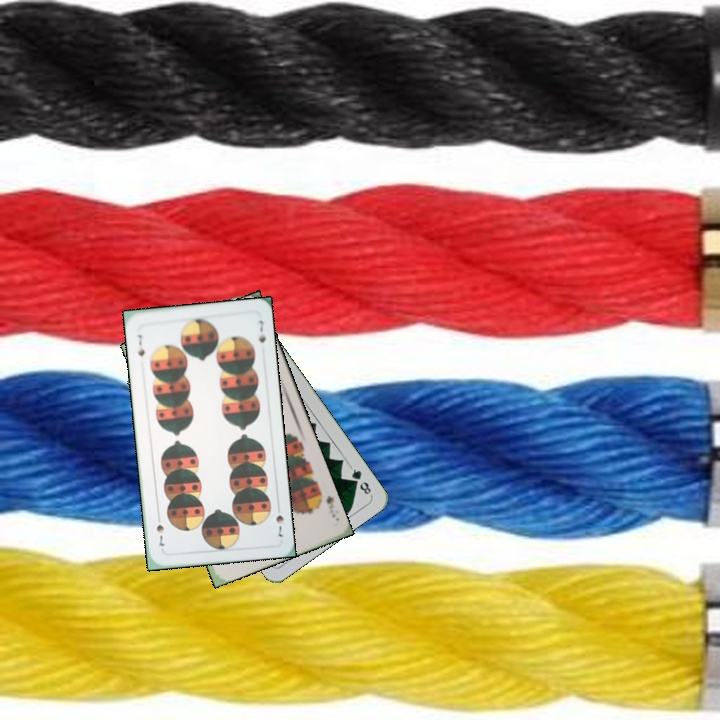G8: (346, 463, 374, 498)
S7: (272, 500, 286, 540), (134, 330, 147, 359)
S9: (322, 491, 339, 520)
